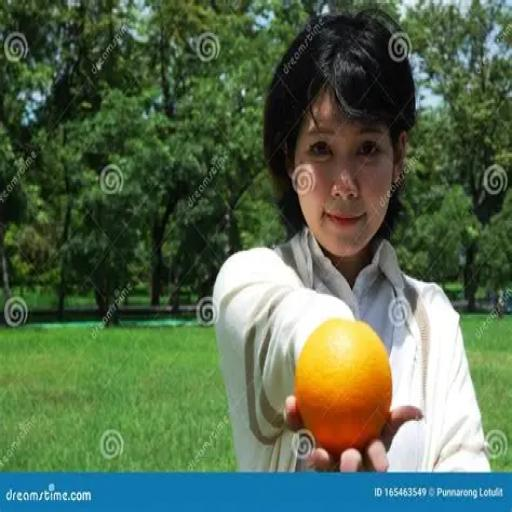orange: (295, 318, 392, 455)
